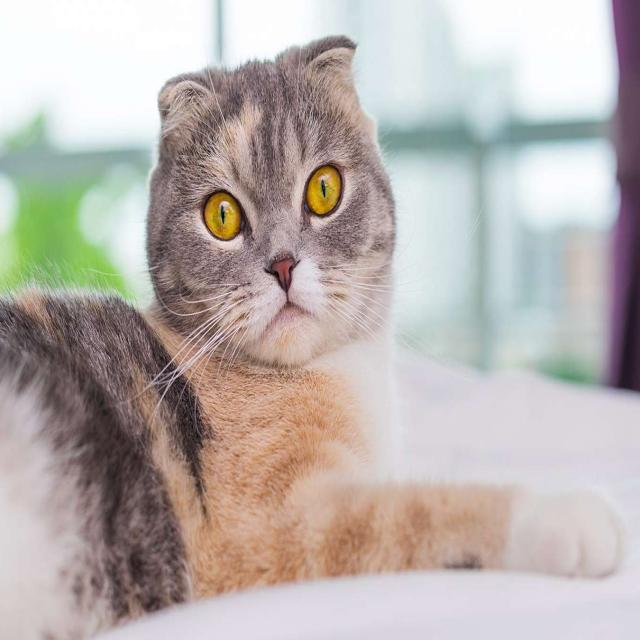Scottish Fold: (0, 27, 629, 640)
